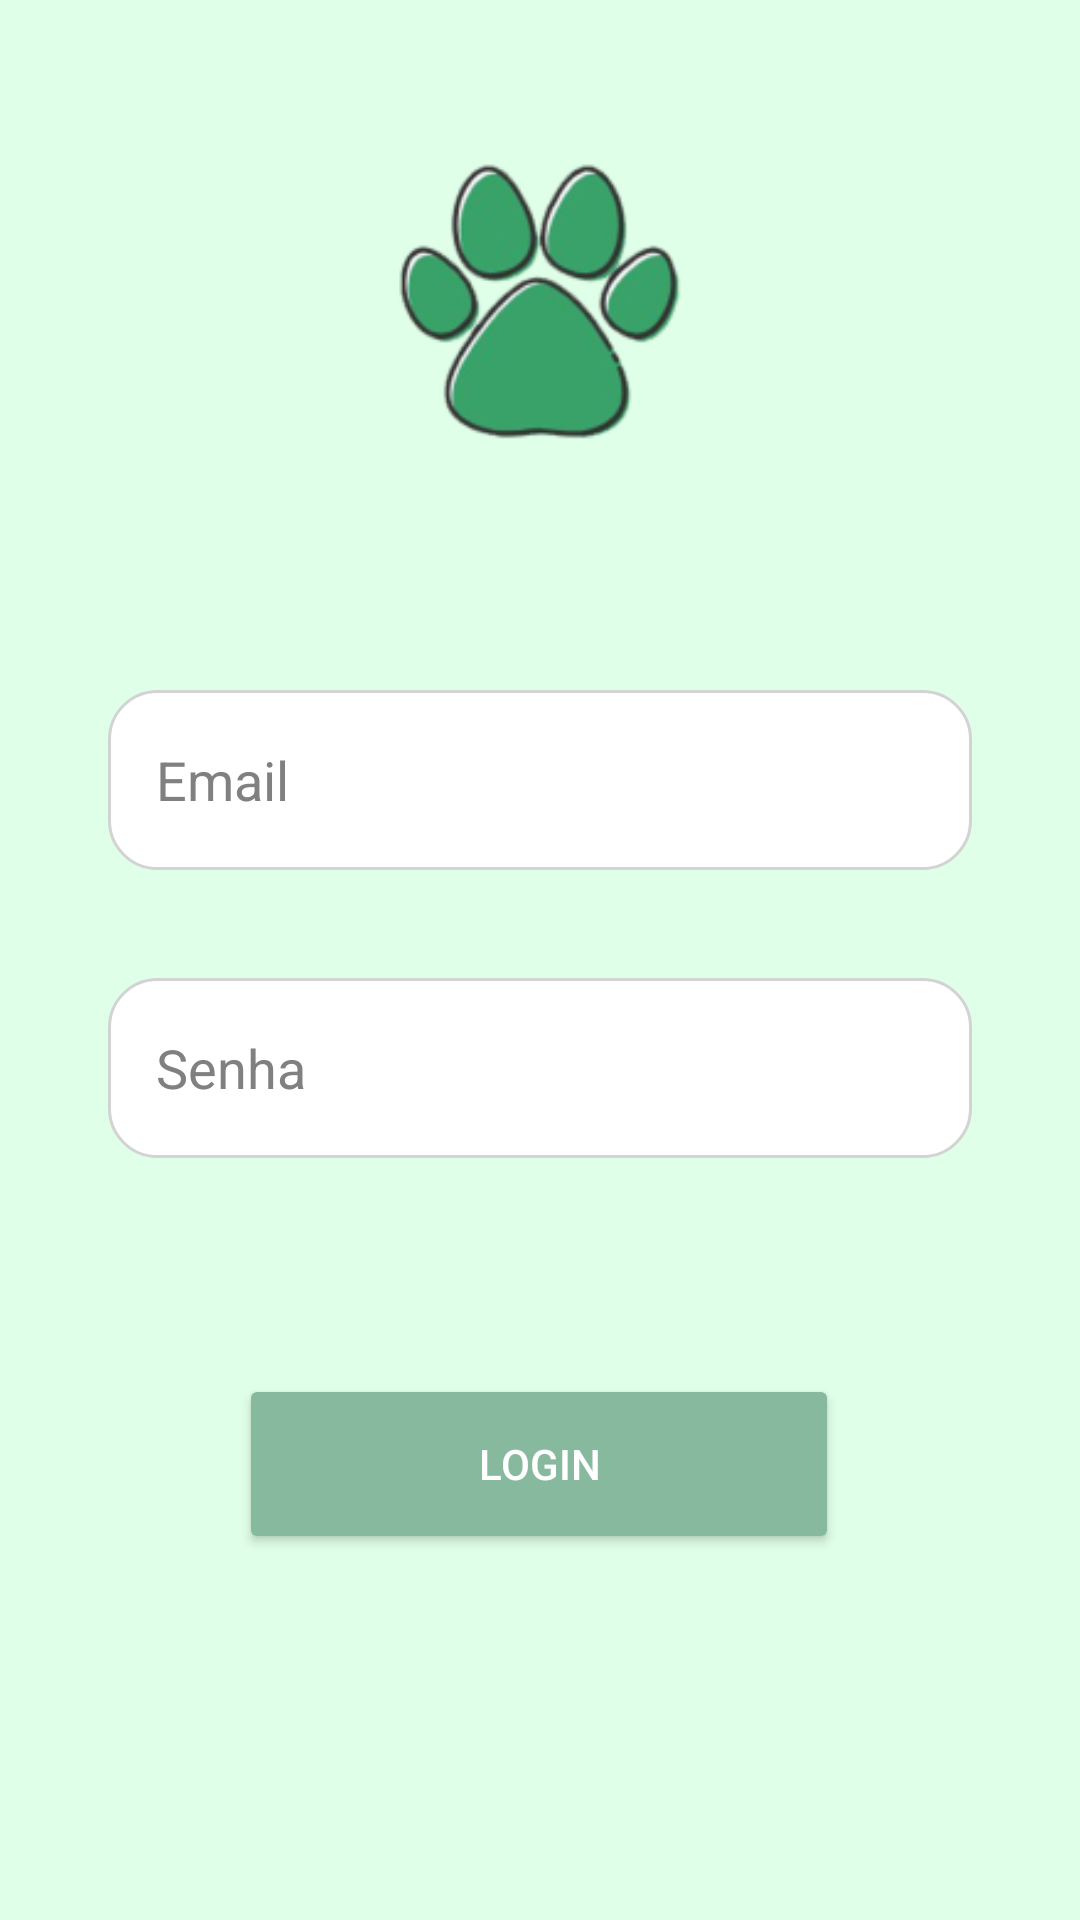

Icon click points for this 1080x1920 phone screenshot, format (x,y):
Paw Icon: (540,301)
